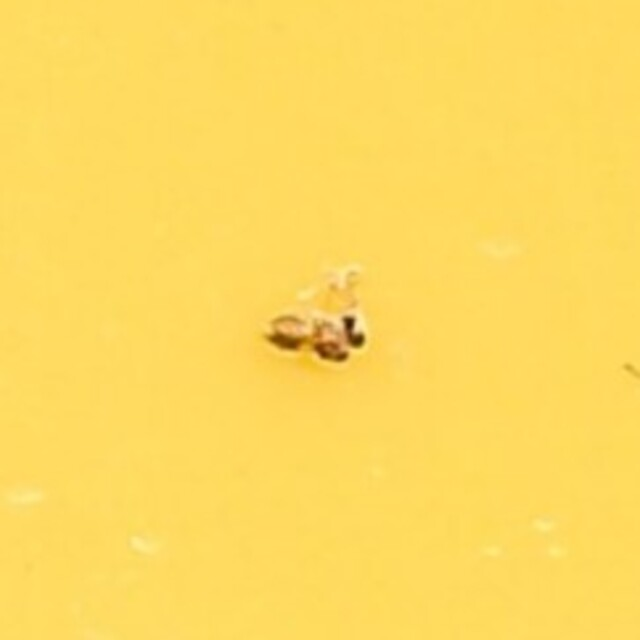Hymenoptera: (264, 272, 376, 368)
